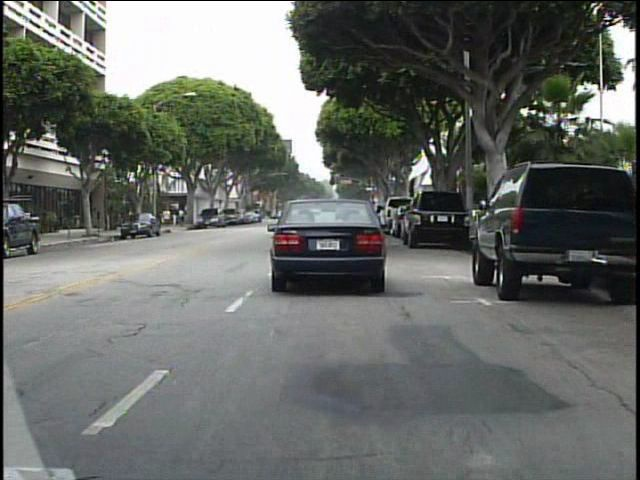person: (161, 205, 175, 230), (178, 203, 190, 229)
